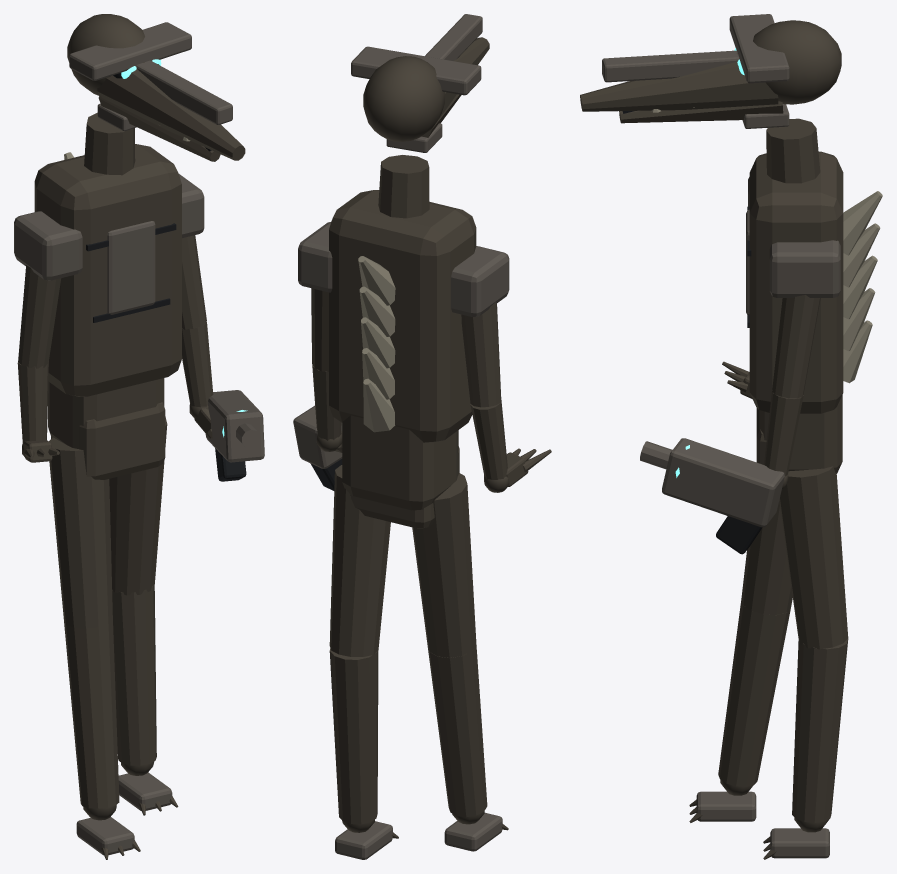
The model's file is XCOM_Viper.fbx.
3 renders of one model, left to right at view 1: azimuth 30°, elevation 25°; view 2: azimuth 150°, elevation 25°; view 3: azimuth 270°, elevation 25°, orthographic. The views are drawn at different scales.
Parts seen in each view (by area): view 1: XCOM_Viper; view 2: XCOM_Viper; view 3: XCOM_Viper.
Part boxes in pixels (x1=…): XCOM_Viper: x1=14, y1=14, x2=264, y2=859; XCOM_Viper: x1=293, y1=14, x2=551, y2=859; XCOM_Viper: x1=580, y1=14, x2=882, y2=859.
Size of the model in its own units: 0.6377 by 2.06 by 0.6972.
